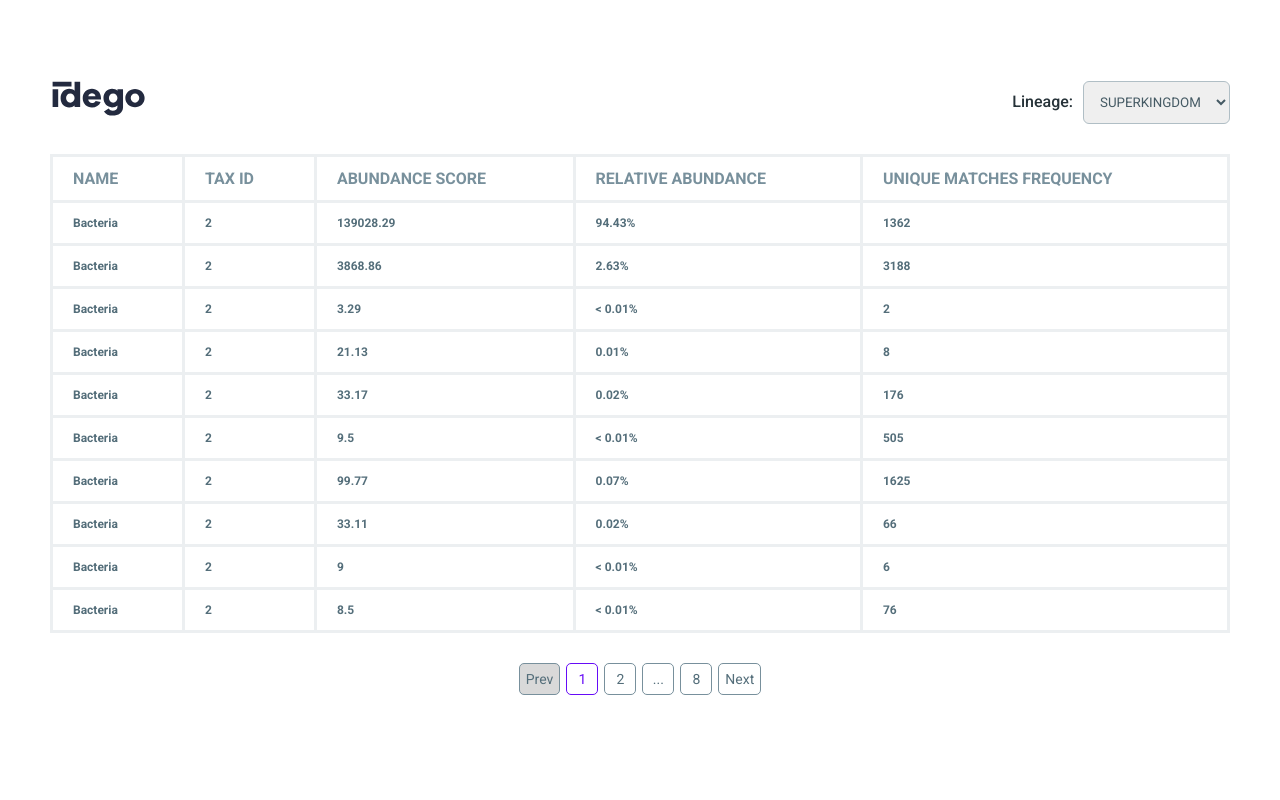
it: Home page test › Check Pagination
Click the button "2": (620, 679) x1=604 y1=663 x2=636 y2=695
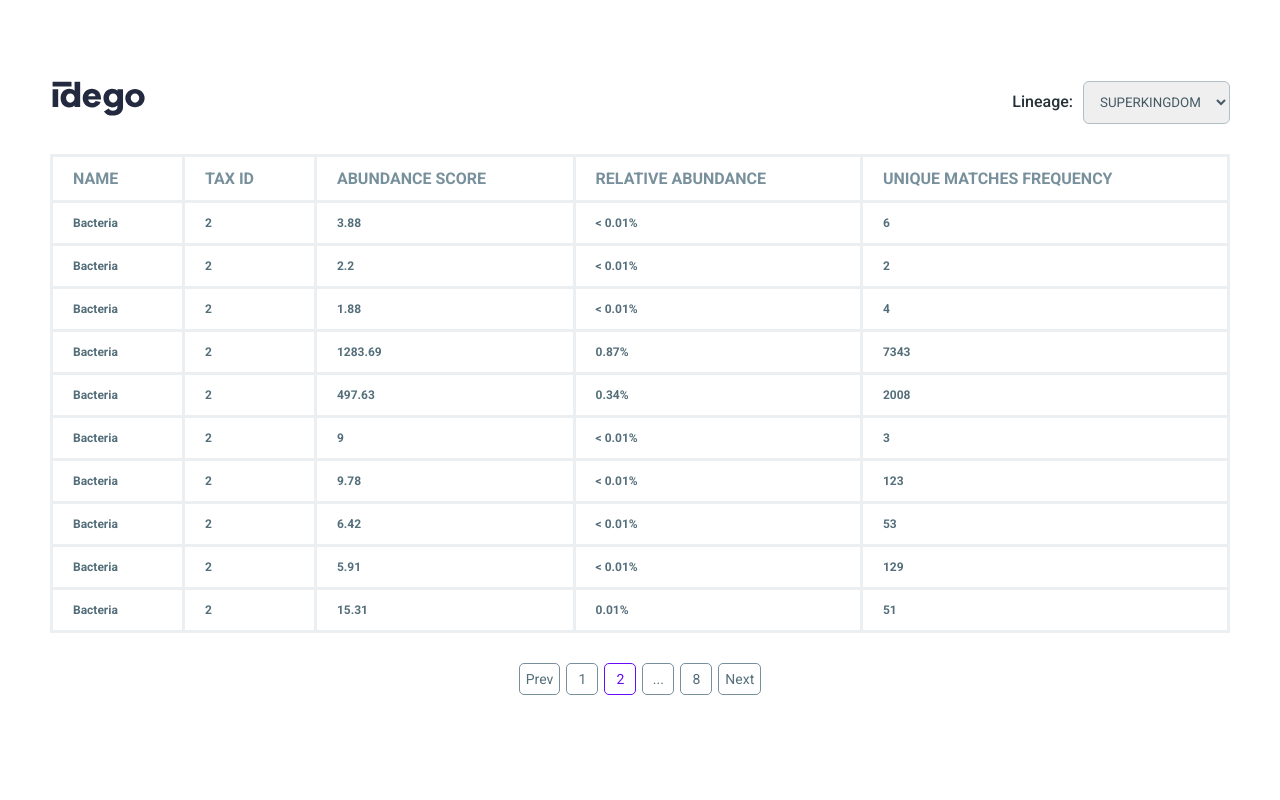
Check: the text "3.88" is shown, box x1=315 y1=202 x2=574 y2=244
Click the button "Prev": (540, 679) x1=519 y1=663 x2=561 y2=695
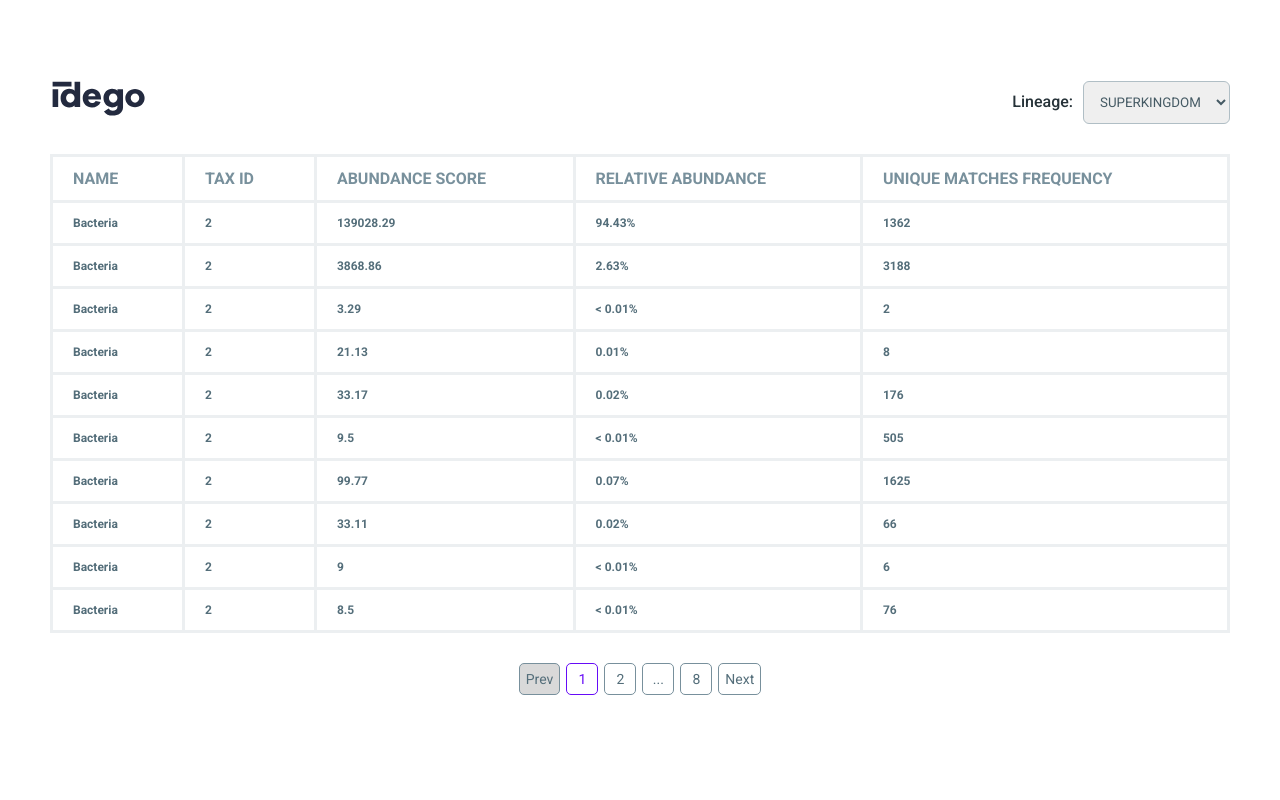
Check: the text "139028.29" is shown, box x1=315 y1=202 x2=574 y2=244
Click the button "Next": (740, 679) x1=718 y1=663 x2=761 y2=695
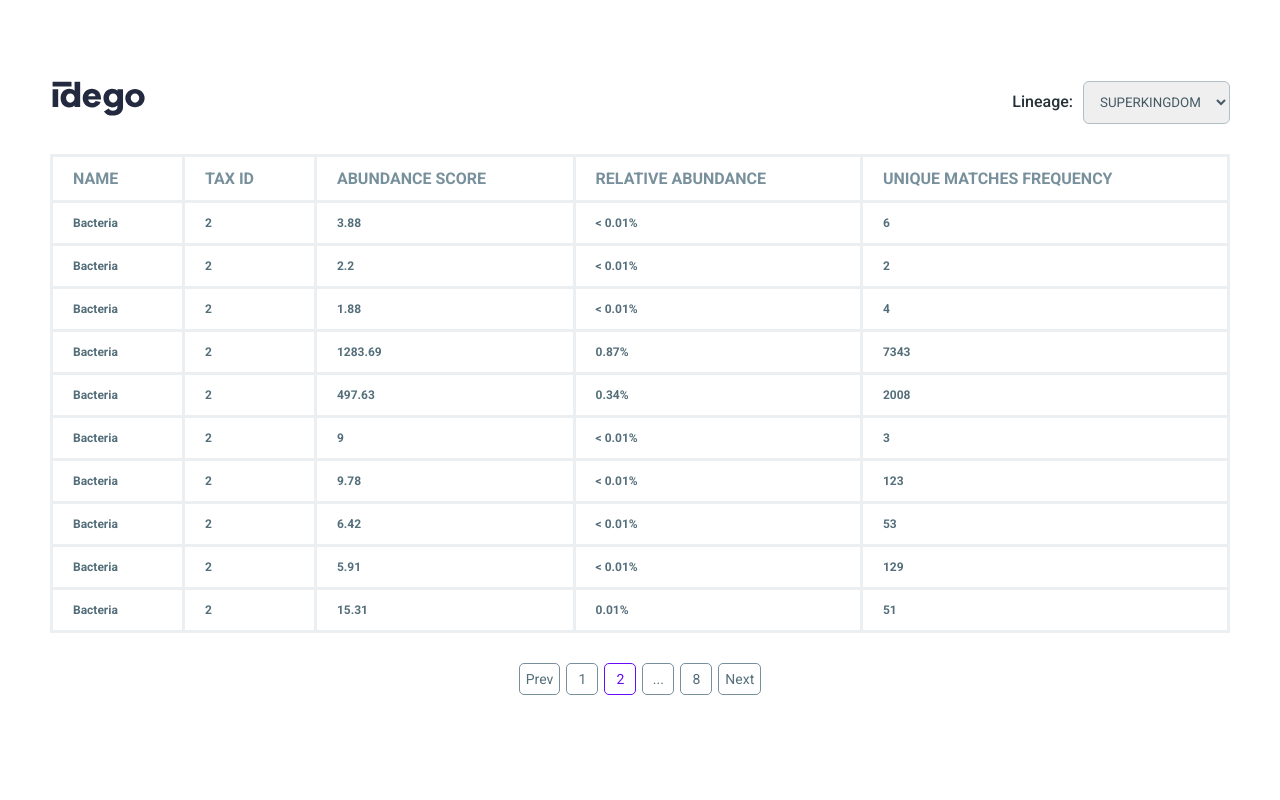
Check: the text "3.88" is shown, box x1=315 y1=202 x2=574 y2=244
Click the button "8": (696, 679) x1=680 y1=663 x2=712 y2=695
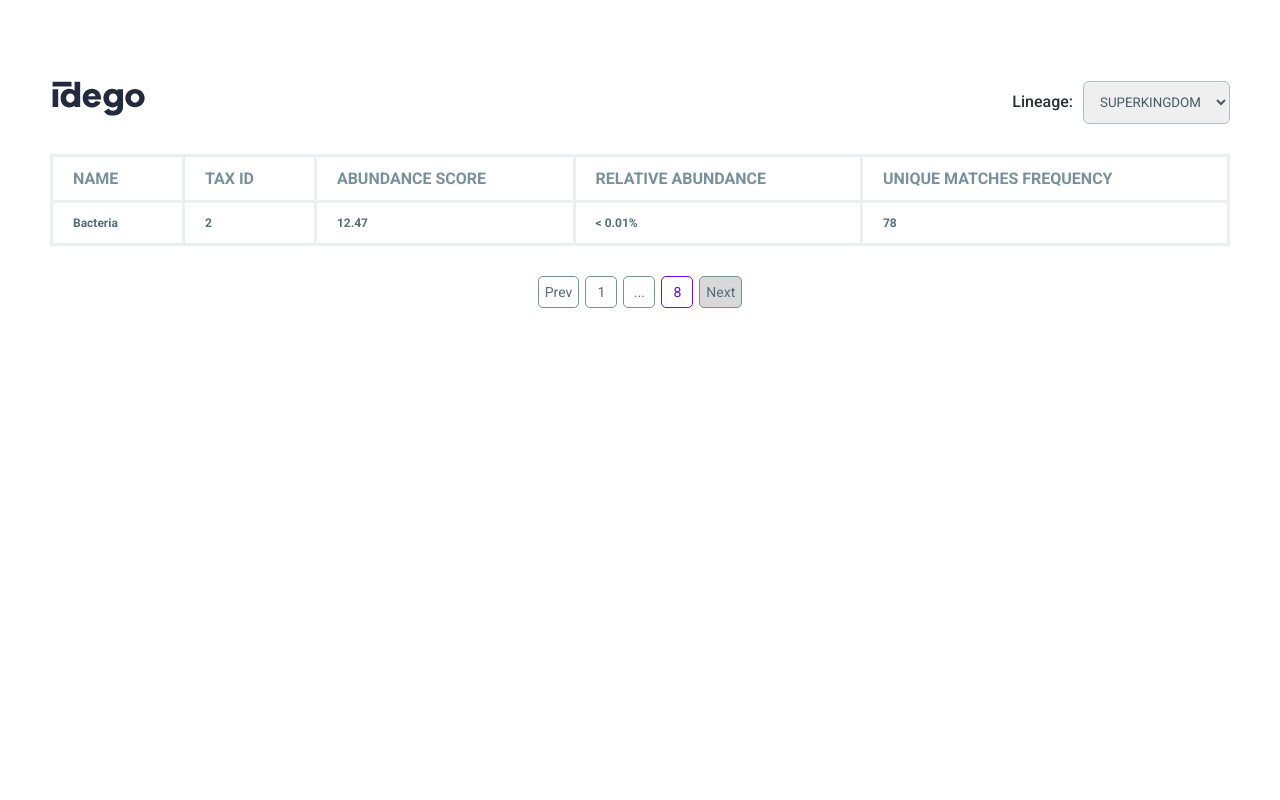
Check: the text "12.47" is shown, box x1=315 y1=202 x2=574 y2=244
